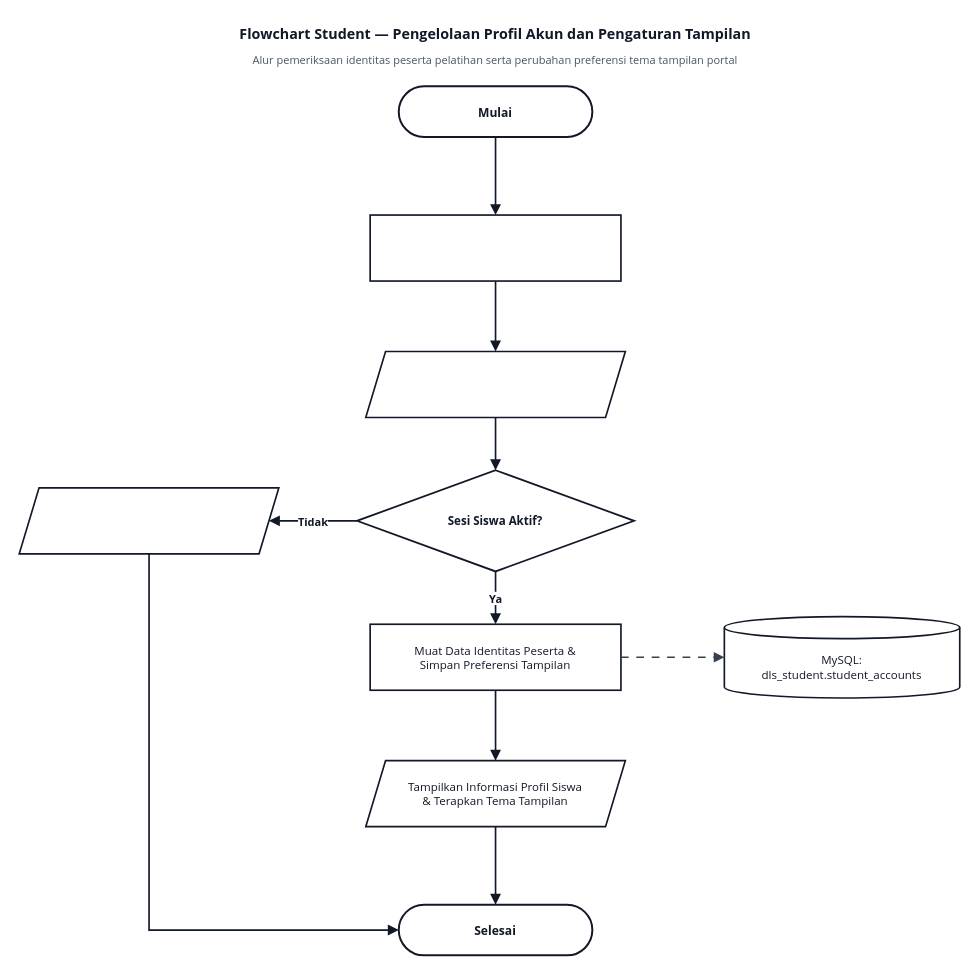
This 980x975 diagram has some shape labels left out. Here are the shapes that lost their labels. From the top down, the centre of each, then its label:
At point 495,247: "Buka Menu Profil pada Sidebar Portal Siswa".
At point 495,384: "Buka Rincian Profil Akun atau Ubah Sakelar Tema (Normal / Gelap)".
At point 148,520: "Arahkan Kembali ke Halaman Login".
